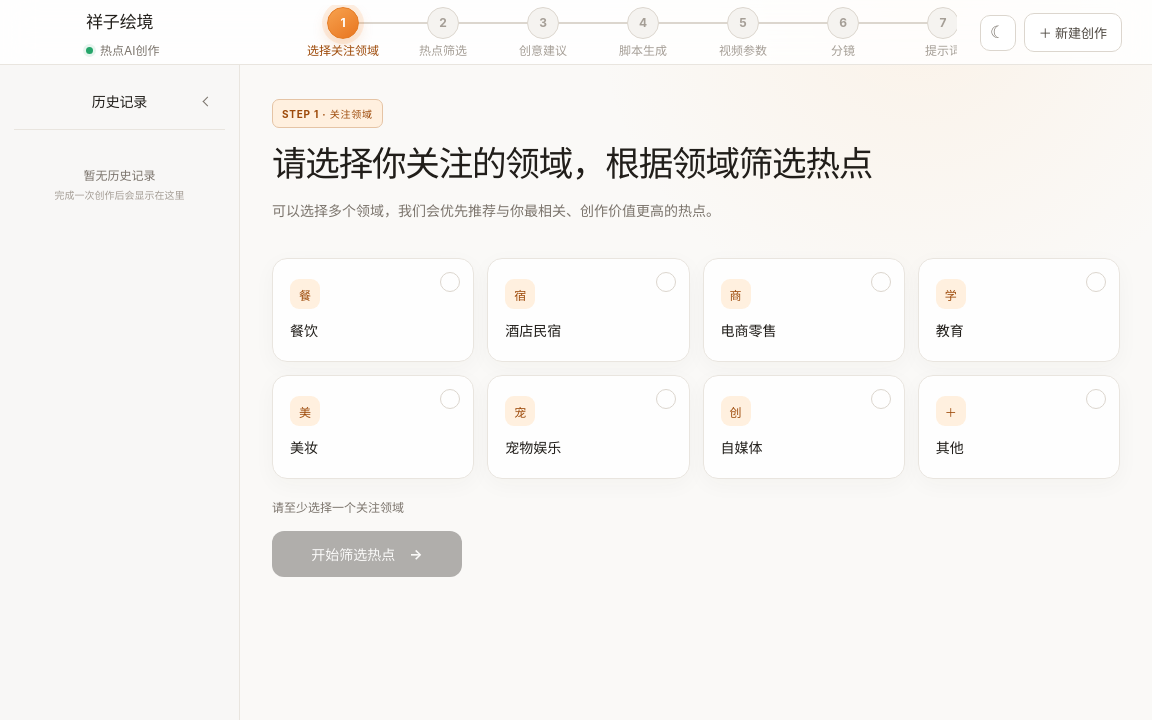
Test case: Step2 推荐原因降级 › reasons 只返回部分有效结果时仍显示全部热点并保留有效原因
Step 1. Click the button "餐 餐饮" → (373, 310), box x1=272 y1=258 x2=474 y2=362
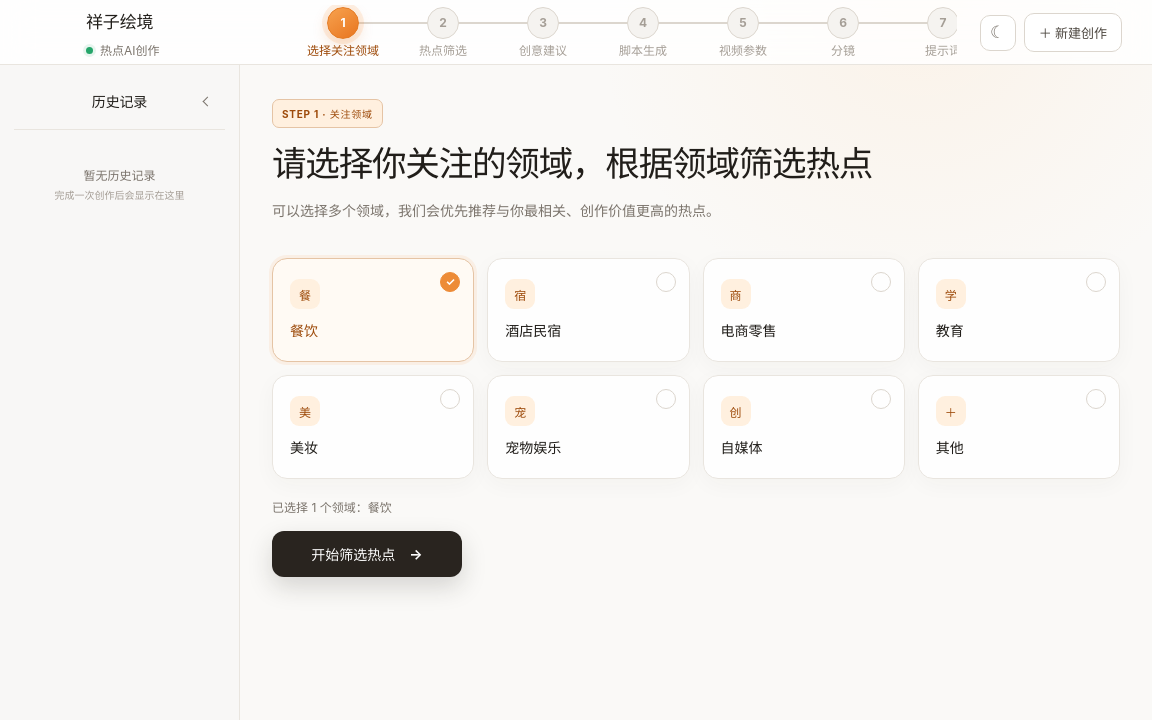
Step 2. Click the button "开始筛选热点 →" → (367, 554), box x1=272 y1=531 x2=462 y2=577
(page scrolled)
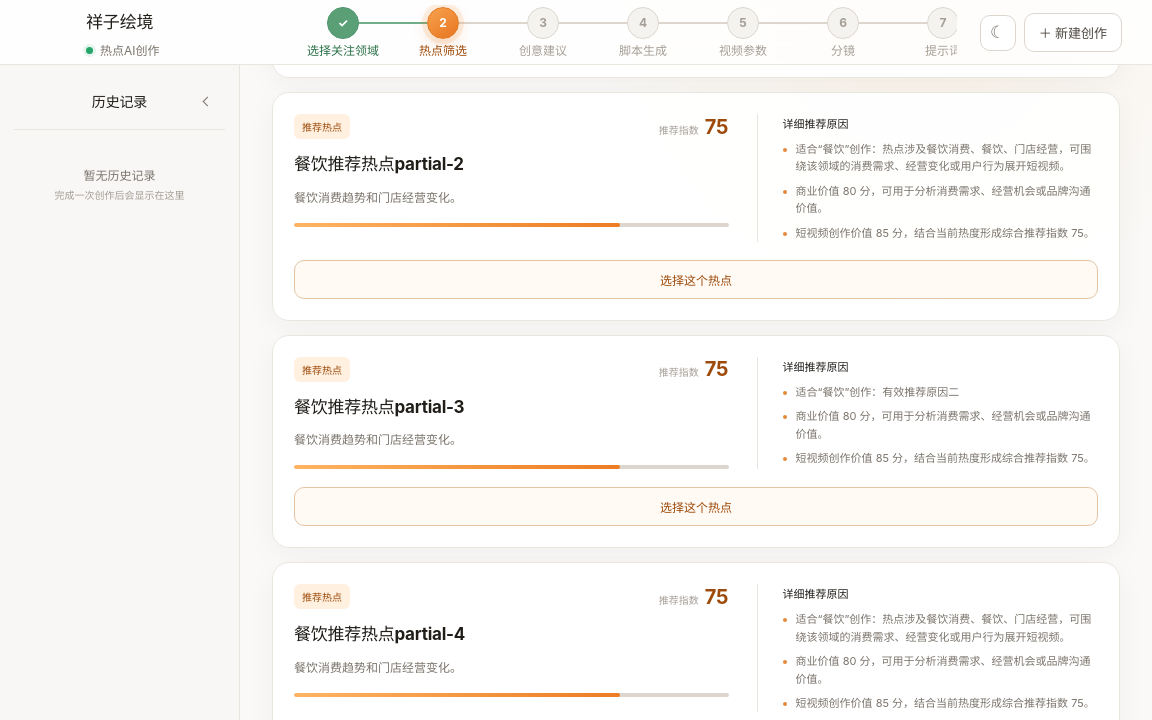
expect the list item "适合“餐饮”创作：有效推荐原因二" is shown: met, box x1=796 y1=385 x2=959 y2=399
